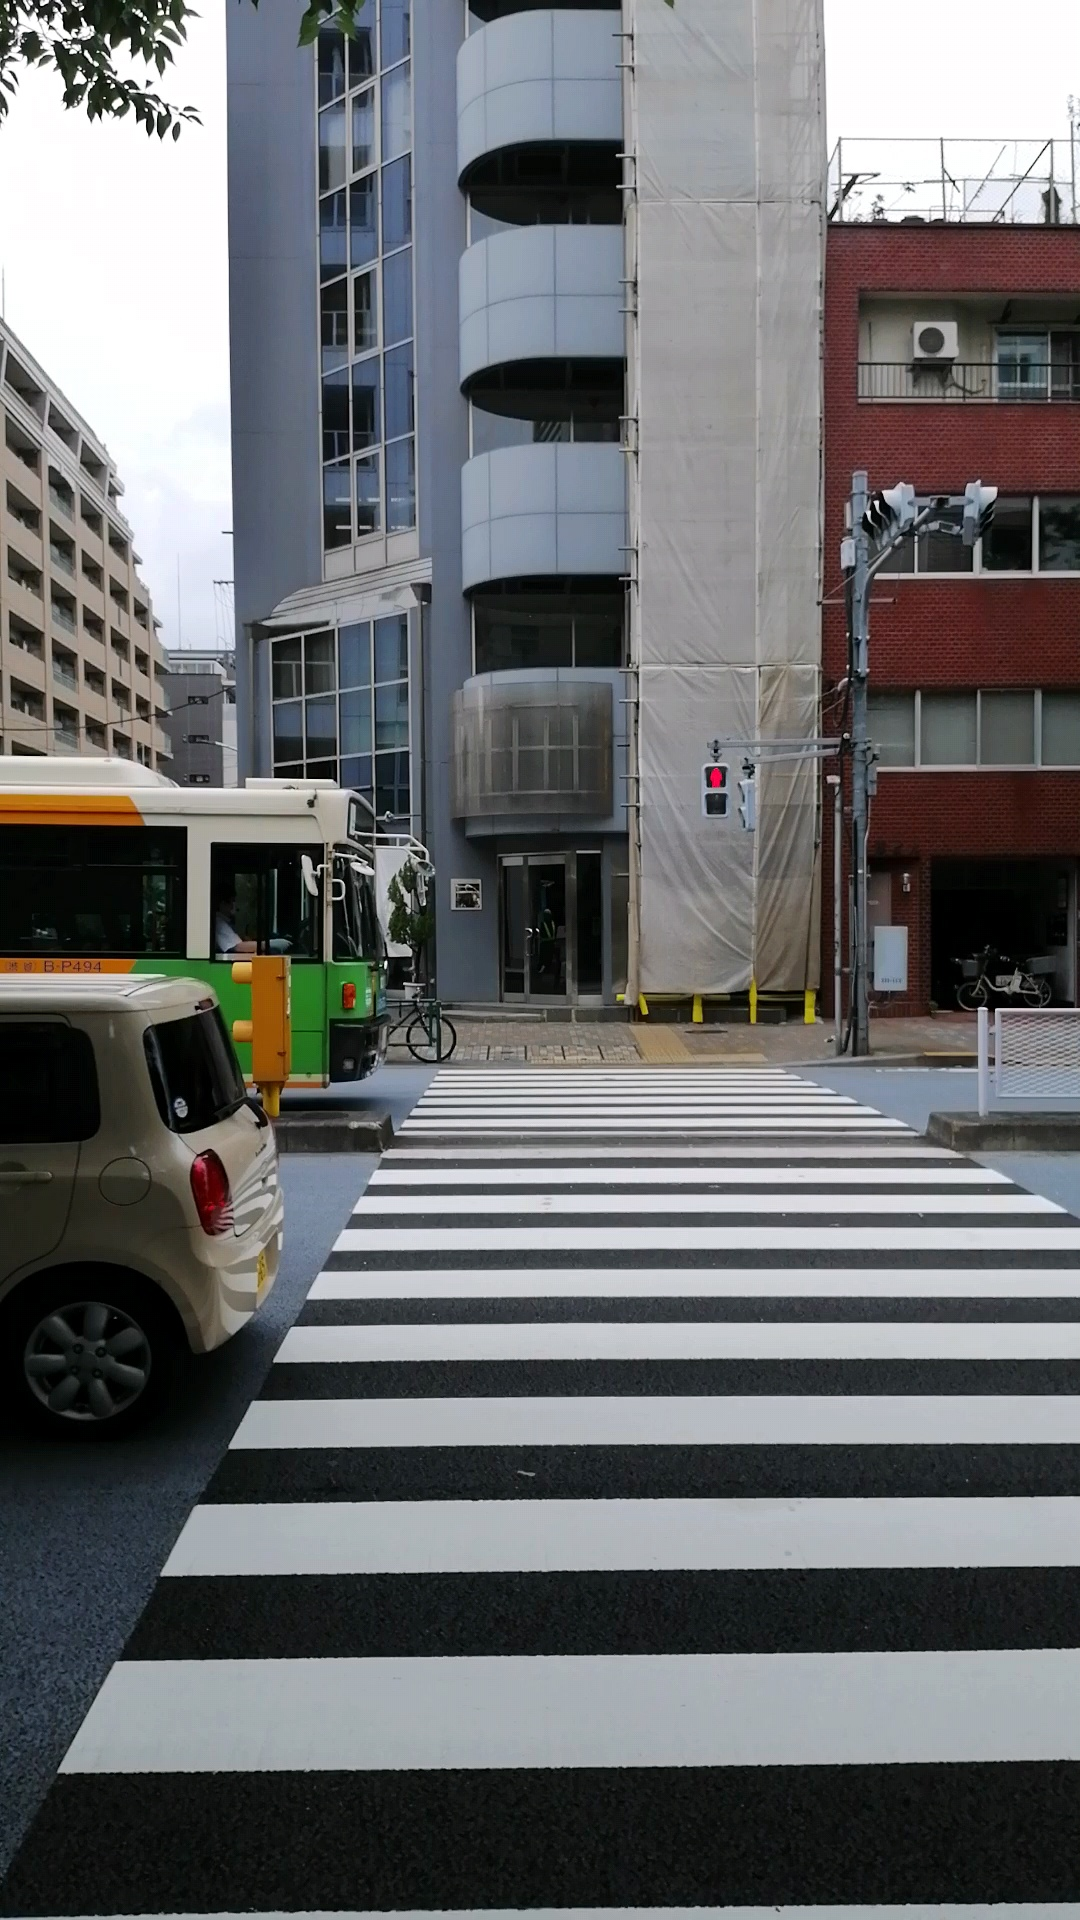red: (702, 762, 731, 818)
